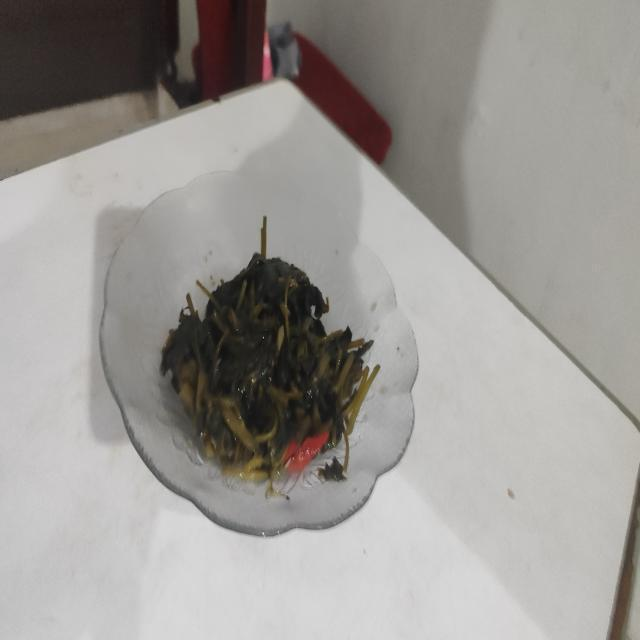tumis_kangkung: (160, 250, 378, 484)
